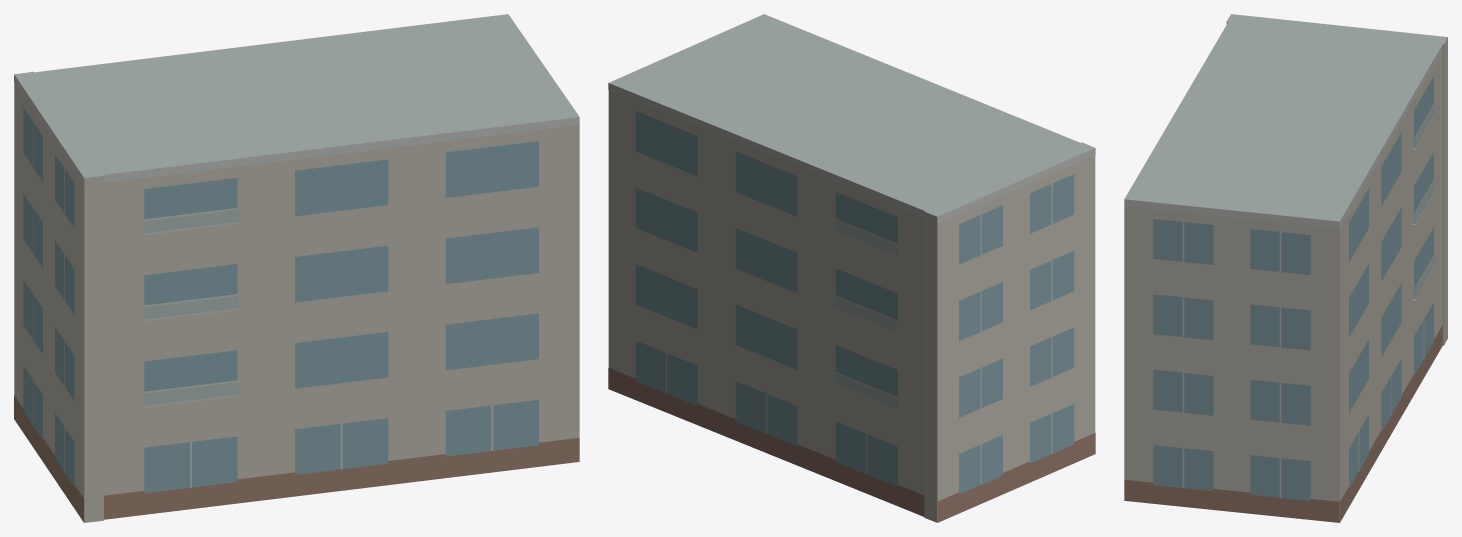
Rendered from survey-upis-32869355.glb.
The picture shows the model from 3 angles, left to right: view 1: azimuth 30°, elevation 25°; view 2: azimuth 150°, elevation 25°; view 3: azimuth 270°, elevation 25°; orthographic projection. The views are drawn at different scales.
Visible parts, largest first — view 1: survey-upis-32869355.tmp; view 2: survey-upis-32869355.tmp; view 3: survey-upis-32869355.tmp.
Part boxes in pixels (bbox=[...]): survey-upis-32869355.tmp: bbox=[14, 14, 579, 522]; survey-upis-32869355.tmp: bbox=[608, 14, 1095, 522]; survey-upis-32869355.tmp: bbox=[1124, 14, 1447, 522].
Size of the model in its own units: 15.51 by 10.5 by 10.22.
